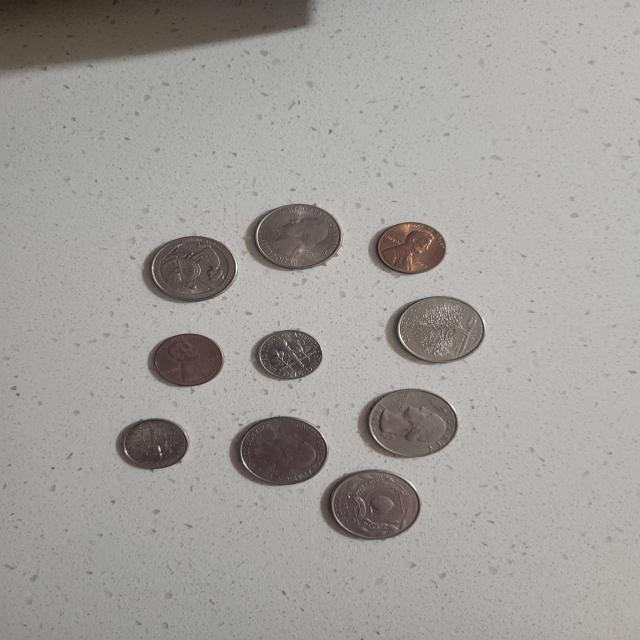Dime: (256, 326, 326, 384), (122, 416, 190, 470)
Penny: (144, 330, 228, 390), (374, 220, 448, 276)
Quarter: (248, 198, 345, 272), (364, 386, 462, 458), (327, 468, 425, 540), (236, 413, 330, 487), (146, 234, 242, 304), (394, 295, 487, 365)
